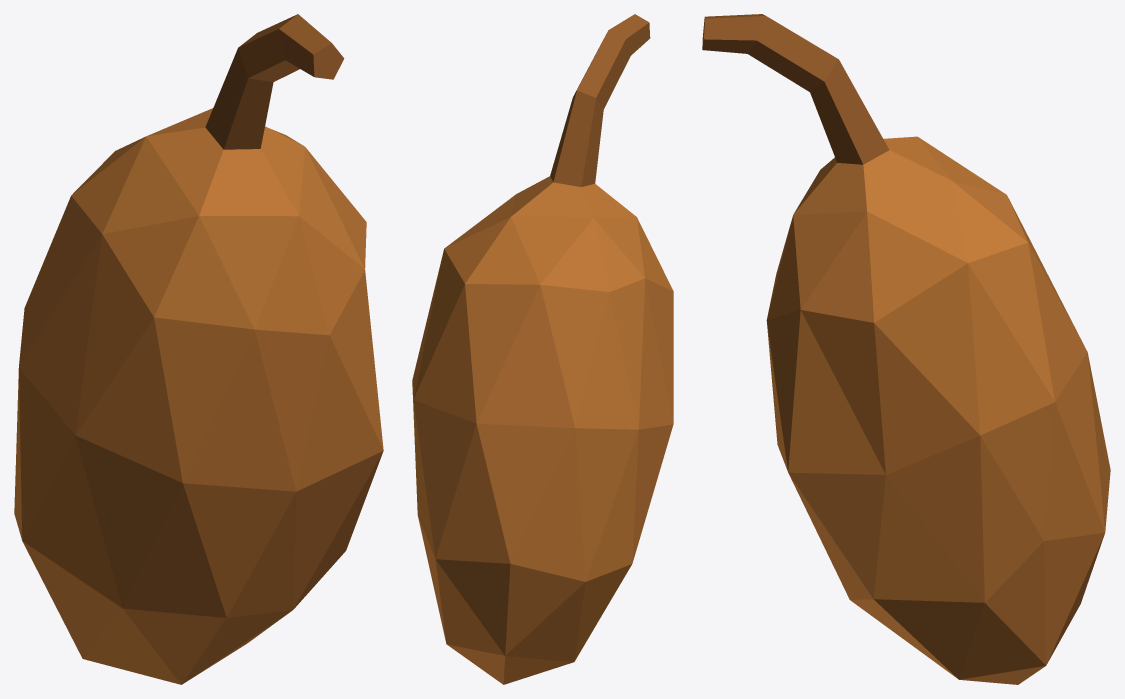
File: Dates.fbx
3 renders of one model, left to right at view 1: azimuth 30°, elevation 25°; view 2: azimuth 150°, elevation 25°; view 3: azimuth 270°, elevation 25°, orthographic. The views are drawn at different scales.
Parts seen in each view (by area): view 1: Dates; view 2: Dates; view 3: Dates.
Boxes of the visible parts, <box> form: Dates: <box>14,14,383,684</box>; Dates: <box>412,14,673,684</box>; Dates: <box>702,14,1110,684</box>.
Bounding box in the file's own units: 0.3871 × 0.9444 × 0.5209.
